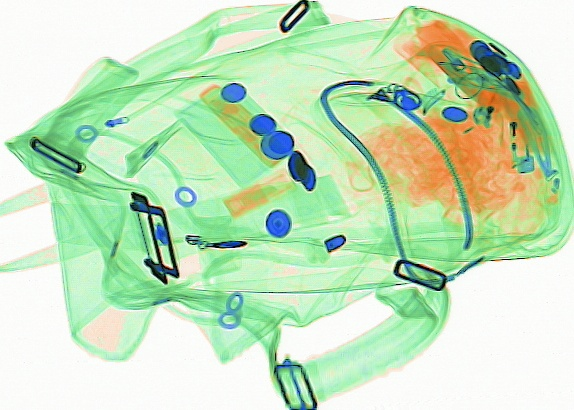lighter: (498, 79, 533, 175), (472, 71, 516, 129)
